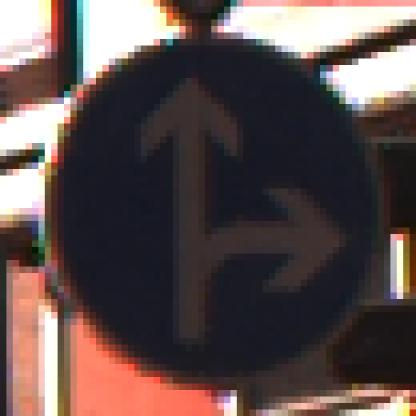Straight or Right: (40, 34, 379, 385)
